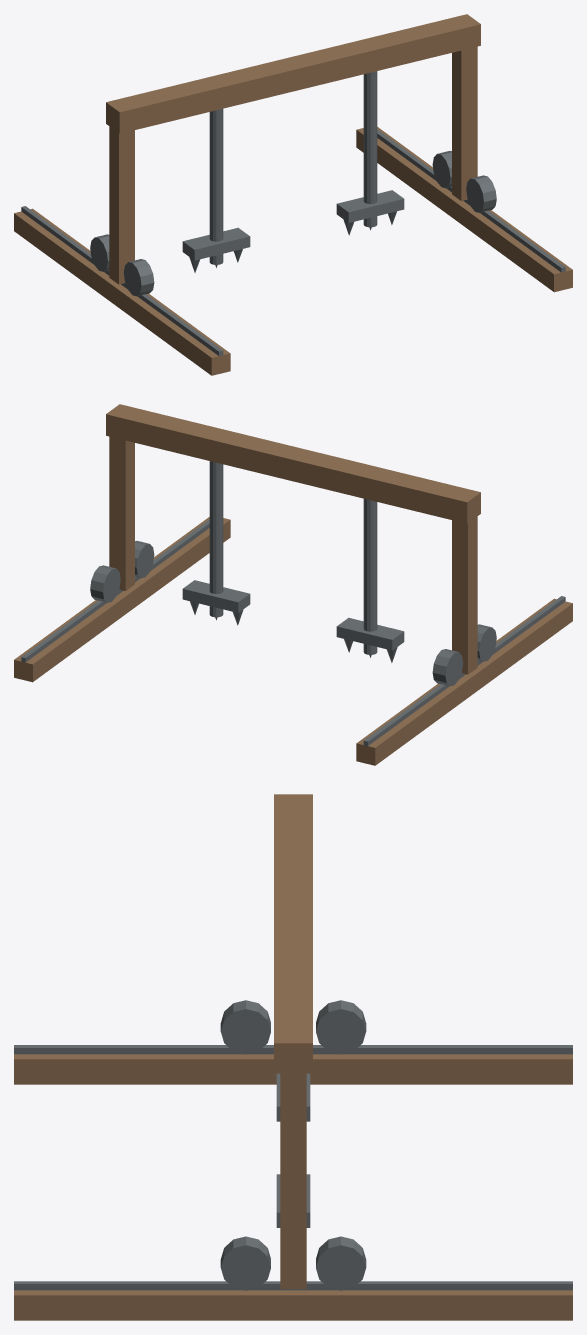
Rendered from vf_farm_gantry.glb.
The picture shows the model from 3 angles, top to bottom: view 1: azimuth 30°, elevation 25°; view 2: azimuth 150°, elevation 25°; view 3: azimuth 270°, elevation 25°; orthographic projection. The views are drawn at different scales.
Parts seen in each view (by area): view 1: Carriage_Oak, Static_Oak, Tool_Head_1_Iron, Tool_Head_0_Iron, Carriage_Iron, Static_Iron; view 2: Carriage_Oak, Static_Oak, Tool_Head_1_Iron, Tool_Head_0_Iron, Carriage_Iron, Static_Iron; view 3: Static_Oak, Carriage_Oak, Static_Iron, Carriage_Iron.
Part boxes in pixels (<box>): Carriage_Oak: <box>106,14,480,284</box>; Static_Oak: <box>14,127,572,375</box>; Tool_Head_1_Iron: <box>336,71,404,235</box>; Tool_Head_0_Iron: <box>182,108,250,272</box>; Carriage_Iron: <box>90,151,496,296</box>; Static_Iron: <box>21,129,565,355</box>; Carriage_Oak: <box>106,404,480,674</box>; Static_Oak: <box>14,517,572,765</box>; Tool_Head_1_Iron: <box>182,461,250,625</box>; Tool_Head_0_Iron: <box>336,498,404,662</box>; Carriage_Iron: <box>90,541,496,686</box>; Static_Iron: <box>21,519,565,745</box>; Static_Oak: <box>14,1054,572,1320</box>; Carriage_Oak: <box>274,794,312,1288</box>; Static_Iron: <box>14,1045,572,1290</box>; Carriage_Iron: <box>220,1000,366,1290</box>.
Size of the model in its own units: 4.22 by 2.19 by 4.
